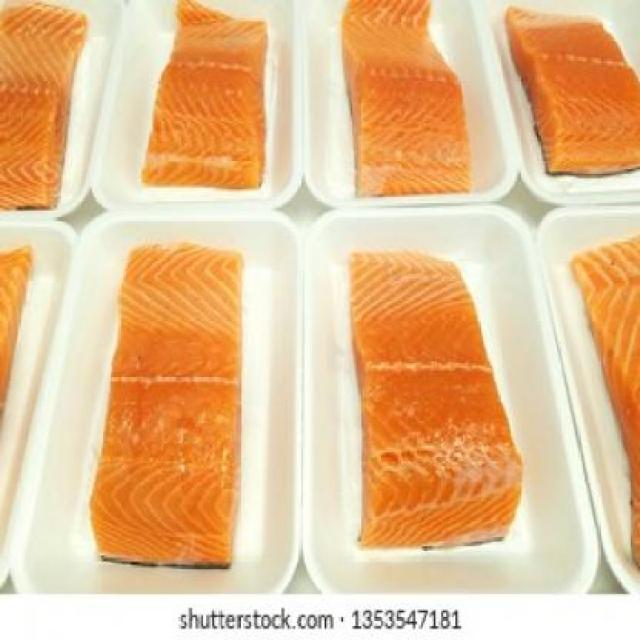salmon: (328, 240, 527, 555), (100, 235, 244, 586), (328, 3, 482, 215), (555, 232, 640, 578), (137, 3, 275, 200), (503, 8, 639, 200), (2, 3, 88, 213), (3, 229, 32, 552)
